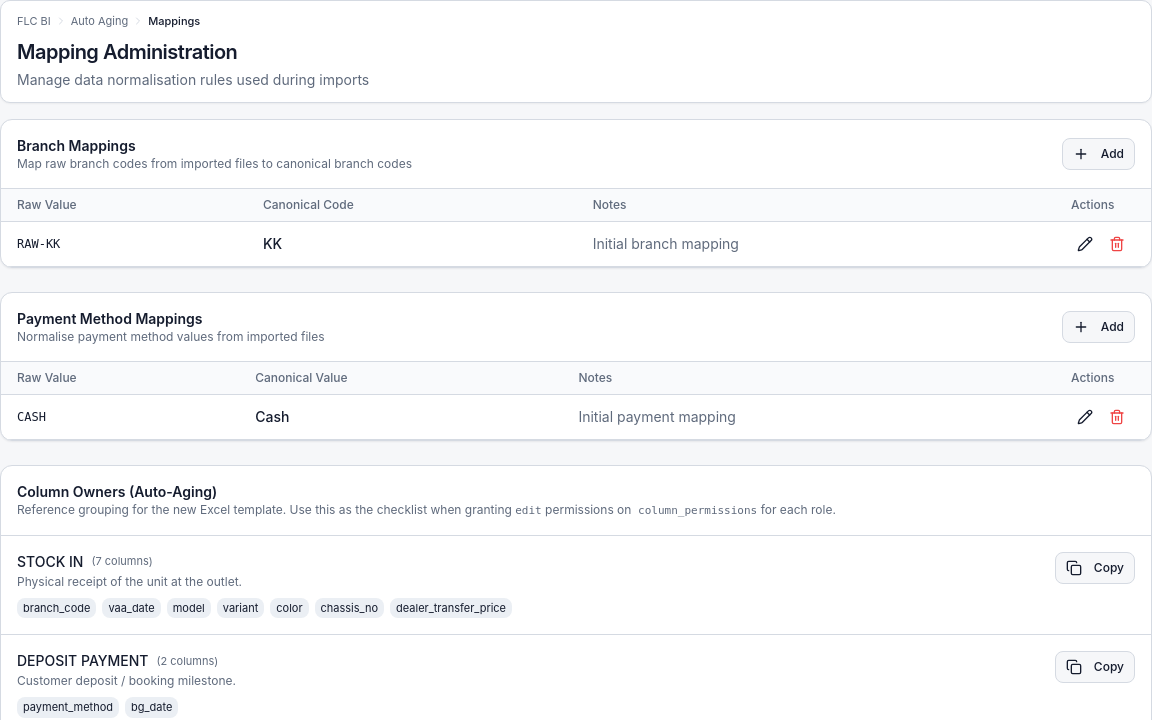
Scenario: MappingAdmin › deletes a branch mapping and refreshes the list
Expected: the text "RAW-KK" is shown, [1, 221, 247, 266]
Click the button named "Delete mapping RAW-KK".
click(1117, 244)  # box [1103, 230, 1131, 258]
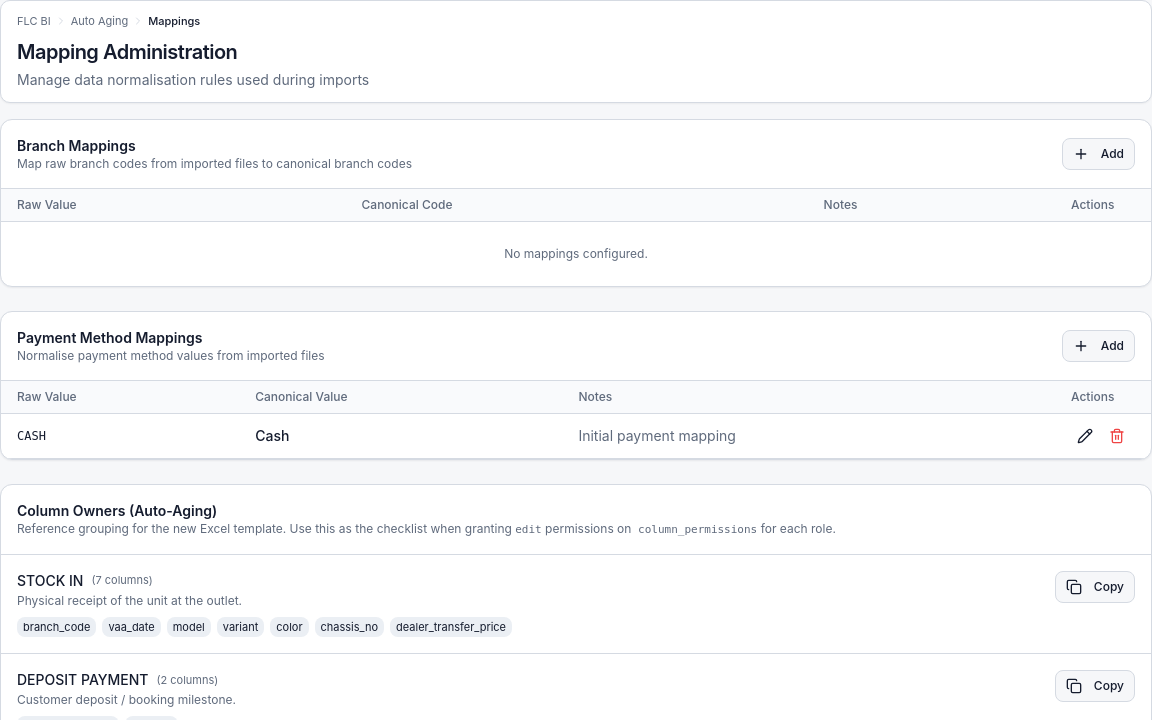
Result: the text "RAW-KK" is gone
